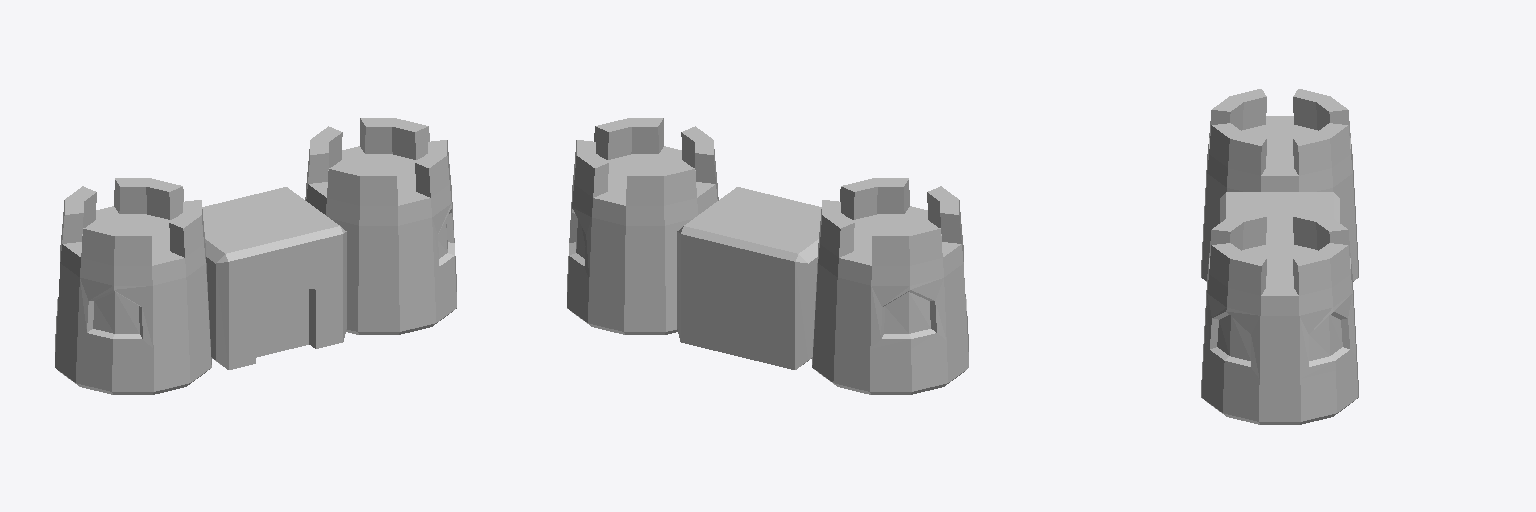
Rendered from sandcastle_C.obj.
3 views of the same model, side by side, from view 1: azimuth 30°, elevation 25°; view 2: azimuth 150°, elevation 25°; view 3: azimuth 270°, elevation 25° (orthographic).
Visible parts, largest first — view 1: sandcastle_C; view 2: sandcastle_C; view 3: sandcastle_C.
Part boxes in pixels (x1,y1,x2,y2): sandcastle_C: (55,118,456,394); sandcastle_C: (567,118,968,394); sandcastle_C: (1201,89,1358,424).
Bounding box in the file's own units: 1.4 × 0.55 × 0.498.